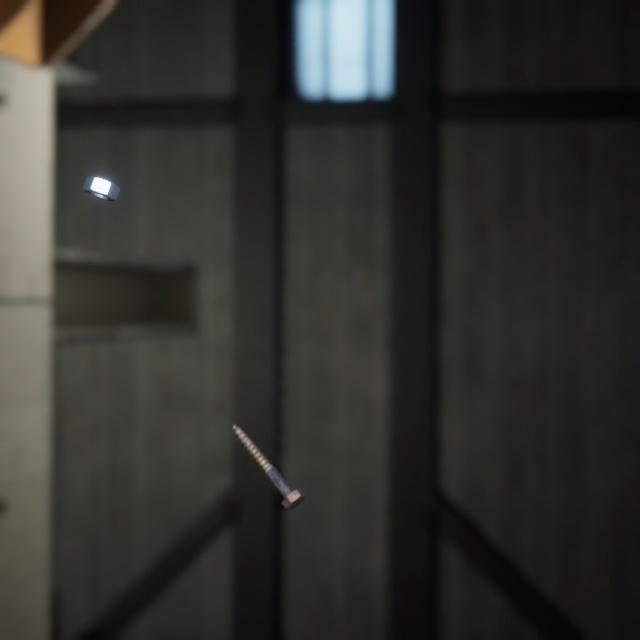bolt: (228, 398, 310, 493)
nut: (78, 157, 125, 191)
